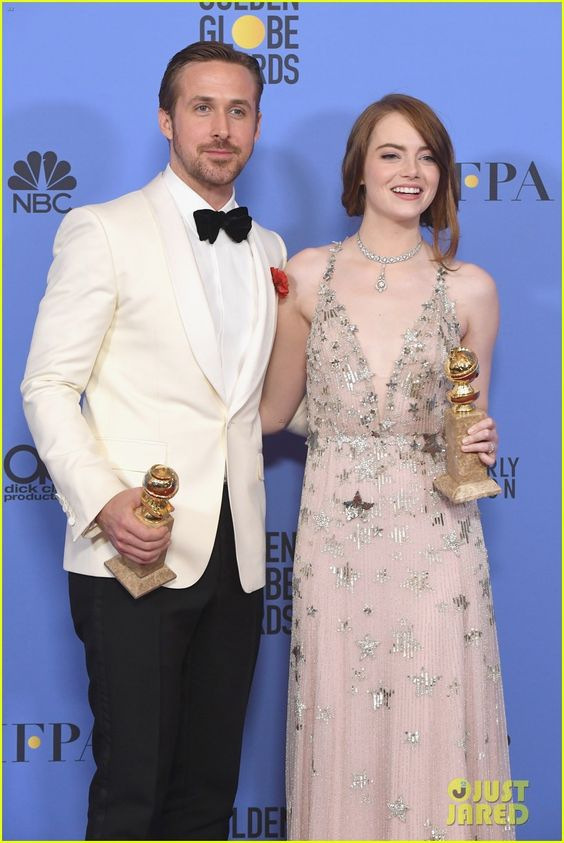hand: (98, 491, 169, 560)
